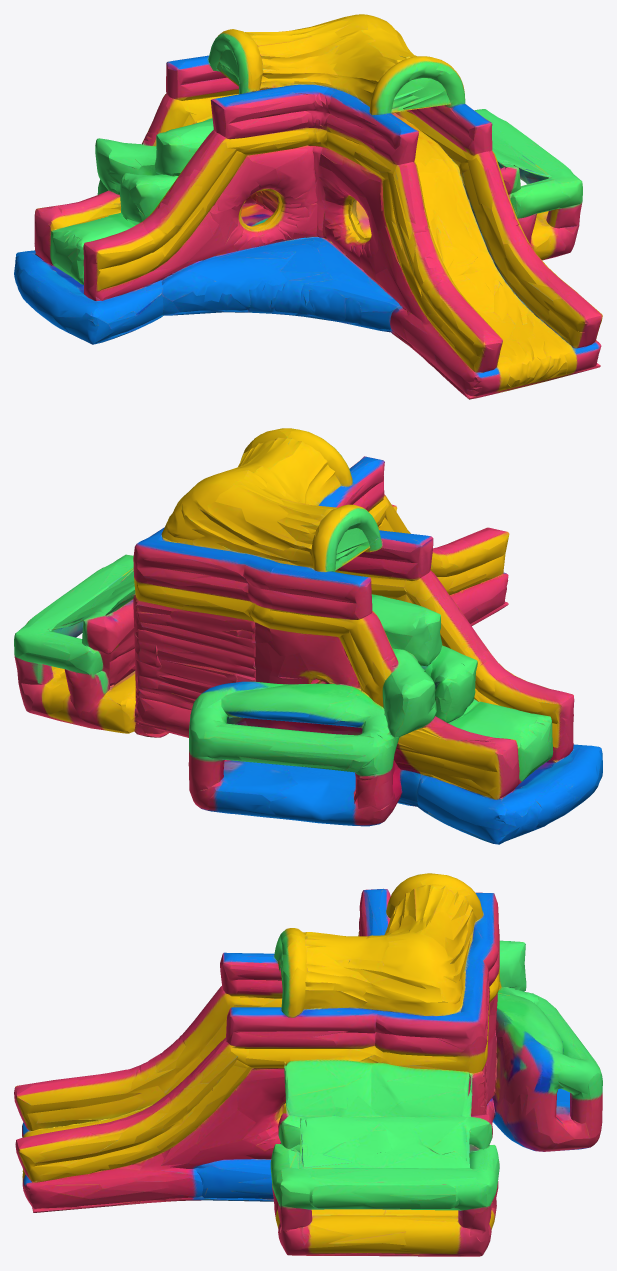
Rendered from megatobogan.glb.
The picture shows the model from 3 angles, top to bottom: view 1: azimuth 30°, elevation 25°; view 2: azimuth 150°, elevation 25°; view 3: azimuth 270°, elevation 25°; orthographic projection. The views are drawn at different scales.
Parts seen in each view (by area): view 1: Mesh_0; view 2: Mesh_0; view 3: Mesh_0.
Part boxes in pixels (<box>): Mesh_0: <box>14,14,602,399</box>; Mesh_0: <box>14,428,602,844</box>; Mesh_0: <box>14,873,602,1256</box>.
Bounding box in the file's own units: 7.5 × 3.5 × 7.43.
1 material, 1 textured.
